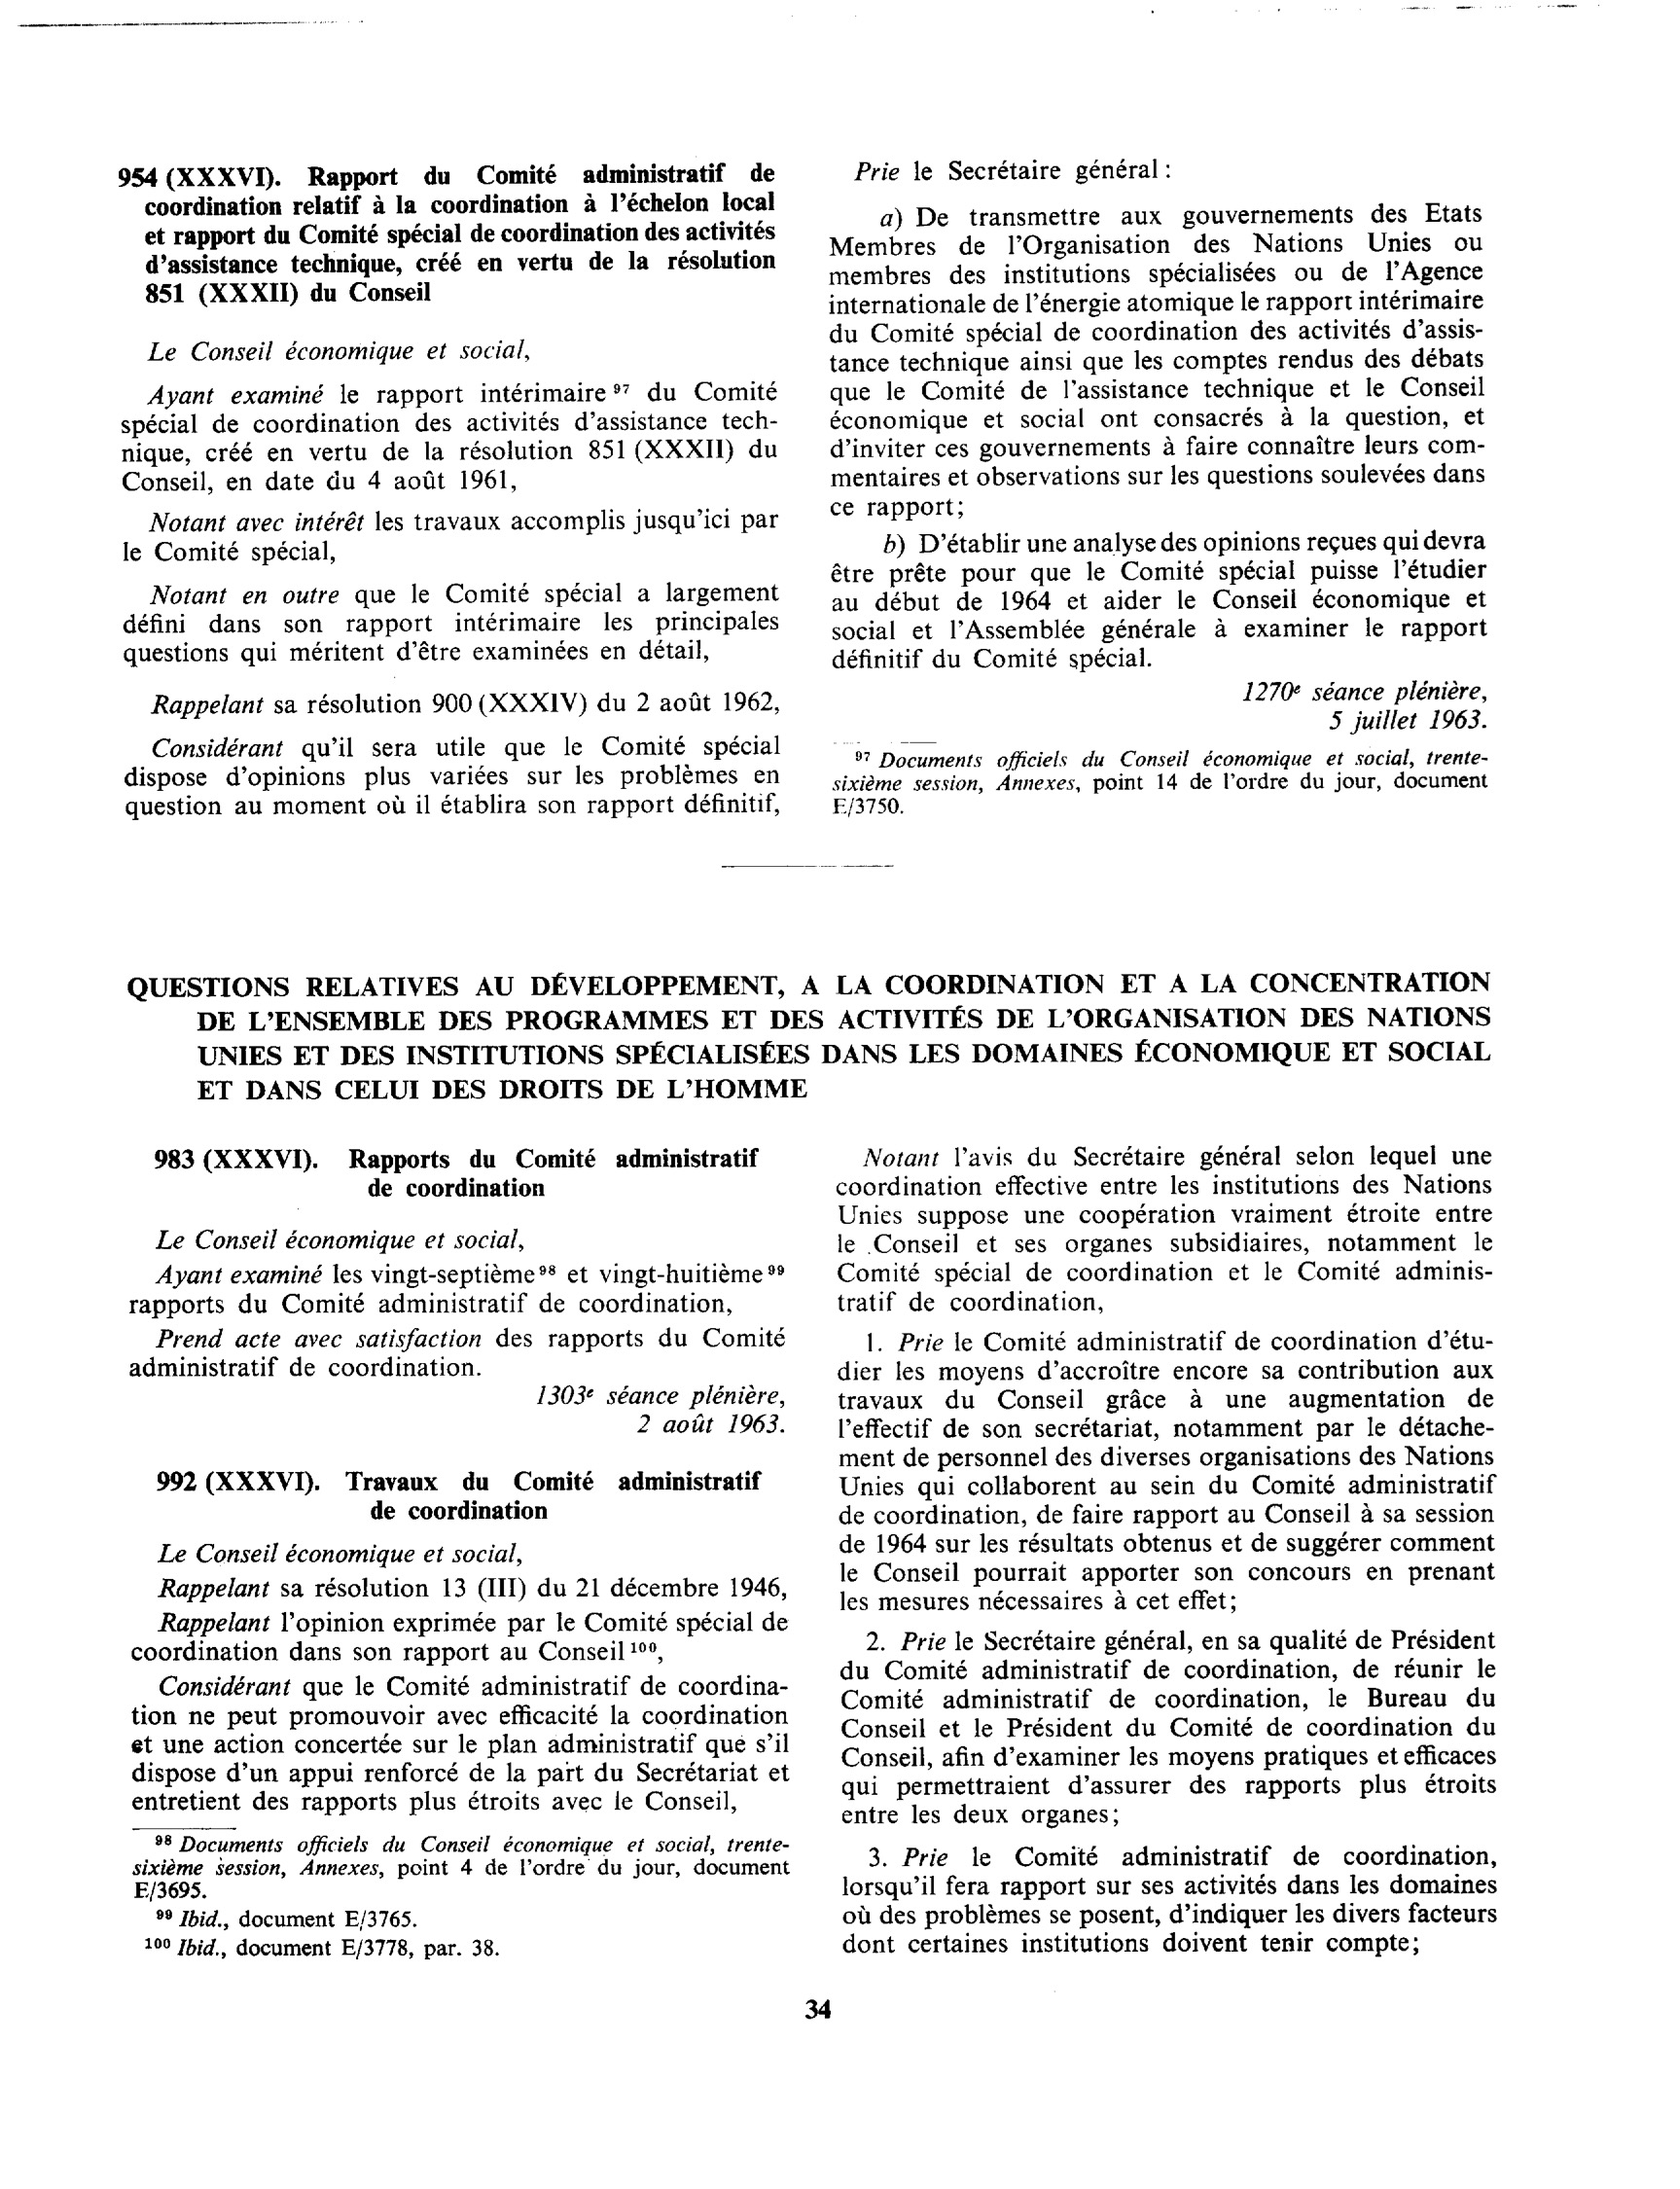MainZone-Date: (1318, 707, 1497, 735), (627, 1415, 786, 1440)
MainZone-Head: (123, 957, 1501, 1110), (108, 154, 785, 310), (140, 1139, 767, 1207), (140, 1464, 769, 1526)
MainZone-ListItem: (821, 197, 1496, 521), (832, 1325, 1502, 1618), (834, 1624, 1505, 1831), (823, 525, 1494, 675), (836, 1839, 1507, 1965)
MainZone-P: (828, 1138, 1500, 1318), (115, 1672, 794, 1817), (111, 377, 787, 498), (114, 731, 789, 827), (113, 578, 788, 671), (113, 506, 793, 572), (117, 1257, 788, 1317), (115, 1322, 790, 1380), (114, 1609, 794, 1666), (113, 684, 788, 722), (147, 1574, 790, 1609), (112, 333, 539, 368), (841, 148, 1184, 190), (146, 1535, 529, 1570), (145, 1221, 529, 1253)
MainZone-Signature: (518, 1379, 791, 1414), (1233, 673, 1494, 706)
MarginTextZone-Notes: (821, 741, 1495, 829), (115, 1826, 793, 1899), (130, 1935, 507, 1964), (138, 1904, 421, 1933)
TitlePageZone: (798, 1993, 839, 2030)
